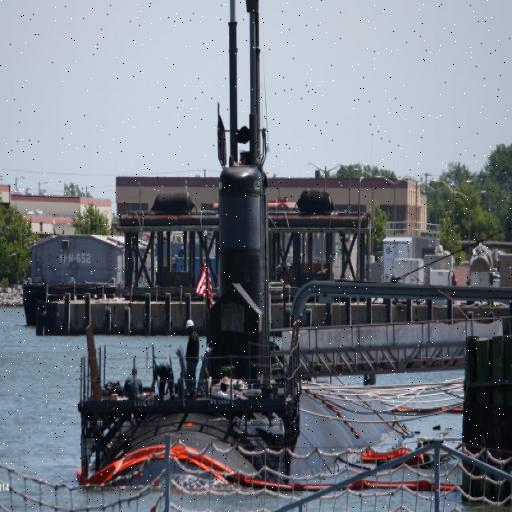submarine: (82, 1, 413, 490)
